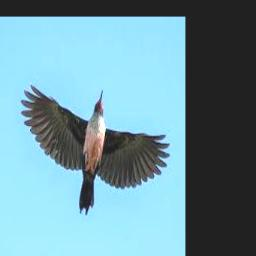Woodpecker: (21, 85, 170, 215)
